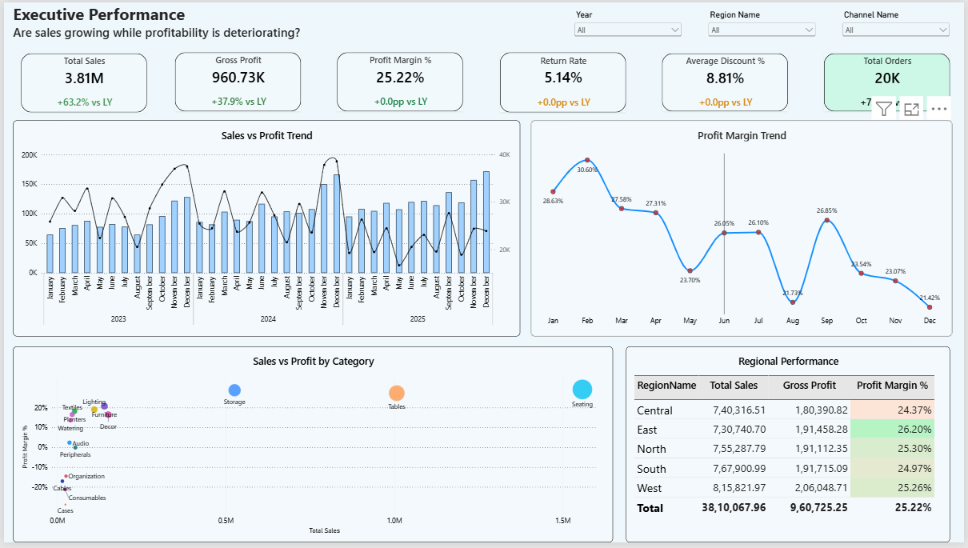

What the dashboard file says about the page in this screenshot:
{"tool":"powerbi","page":{"name":"Page 1","canvas":[1920,1080],"ordinal":0},"visuals":[{"type":"cardVisual","fields":{"Data":["_measure.Total Sales"]},"box":[34,102,252,118],"z":0},{"type":"cardVisual","fields":{"Data":["_measure.Gross Profit"]},"box":[342.4,100.8,252,118],"z":1000},{"type":"cardVisual","fields":{"Data":["_measure.Profit Margin %"]},"box":[666.8,100.8,252,118],"z":2000},{"type":"cardVisual","fields":{"Data":["_measure.Return Rate"]},"box":[991.2,99.8,252,120],"z":3000},{"type":"cardVisual","fields":{"Data":["_measure.Average Discount %"]},"box":[1315.6,101.8,252,116],"z":4000},{"type":"cardVisual","fields":{"Data":["_measure.Total Orders"]},"box":[1640,101.8,252,116],"z":5000},{"type":"lineClusteredColumnComboChart","title":"Sales vs Profit Trend","fields":{"Y":["_measure.Total Sales"],"Category":["DateTable.Year","DateTable.Date.Variation.Date Hierarchy.Month"],"Y2":["_measure.Gross Profit"]},"box":[18,236,1014,432],"z":6000},{"type":"lineChart","title":"Profit Margin Trend","fields":{"Y":["_measure.Profit Margin %"],"Category":["DateTable.MonthName"]},"box":[1054,236,842,432],"z":7000},{"type":"scatterChart","title":"Sales vs Profit by Category","fields":{"X":["_measure.Total Sales"],"Y":["_measure.Profit Margin %"],"Size":["_measure.Gross Profit"],"Series":["Dim_Product.SubCategory"]},"box":[18,688,1200,376],"z":8000},{"type":"pivotTable","title":"Regional Performance","fields":{"Rows":["Dim_Region.RegionName"],"Values":["_measure.Total Sales","_measure.Gross Profit","_measure.Profit Margin %"]},"box":[1244,688,648,376],"z":9000},{"type":"slicer","fields":{"Values":["DateTable.Date.Variation.Date Hierarchy.Year"]},"box":[1136,14,224,62],"z":10000},{"type":"slicer","fields":{"Values":["Dim_Region.RegionName"]},"box":[1404,14.7,224,62],"z":11000},{"type":"slicer","fields":{"Values":["Dim_Channel.ChannelName"]},"box":[1672,14.7,224,62],"z":12000},{"type":"textbox","box":[18,0,1032,76],"z":13000}]}

Visuals, with their boxes in screenshot pixels (x1, y1, x2, y2), scaled from the page's 1920x1080 canvas onto the 968x548 screenshot:
cardVisual - _measure.Total Sales: pyautogui.locateOnScreen(17, 52, 144, 112)
cardVisual - _measure.Gross Profit: pyautogui.locateOnScreen(173, 51, 300, 111)
cardVisual - _measure.Profit Margin %: pyautogui.locateOnScreen(336, 51, 463, 111)
cardVisual - _measure.Return Rate: pyautogui.locateOnScreen(500, 51, 627, 112)
cardVisual - _measure.Average Discount %: pyautogui.locateOnScreen(663, 52, 790, 111)
cardVisual - _measure.Total Orders: pyautogui.locateOnScreen(827, 52, 954, 111)
"Sales vs Profit Trend" lineClusteredColumnComboChart: pyautogui.locateOnScreen(9, 120, 520, 339)
"Profit Margin Trend" lineChart: pyautogui.locateOnScreen(531, 120, 956, 339)
"Sales vs Profit by Category" scatterChart: pyautogui.locateOnScreen(9, 349, 614, 540)
"Regional Performance" pivotTable: pyautogui.locateOnScreen(627, 349, 954, 540)
slicer - DateTable.Date.Variation.Date Hierarchy.Year: pyautogui.locateOnScreen(573, 7, 686, 39)
slicer - Dim_Region.RegionName: pyautogui.locateOnScreen(708, 7, 821, 39)
slicer - Dim_Channel.ChannelName: pyautogui.locateOnScreen(843, 7, 956, 39)
textbox: pyautogui.locateOnScreen(9, 0, 529, 39)
